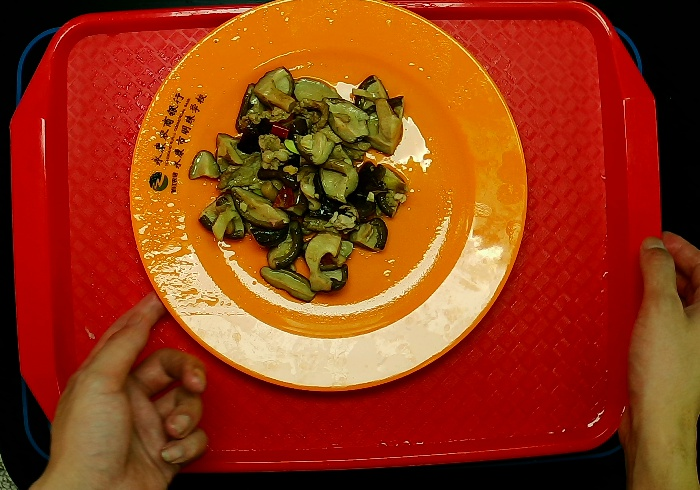YKMZ-Ju_Se_Mian_Pan: (127, 1, 531, 399)
